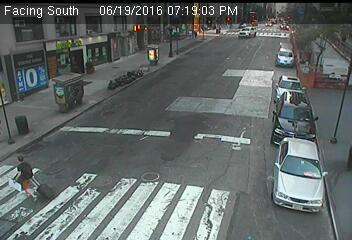neg: (228, 95, 255, 132), (80, 58, 100, 85)
pos: (1, 152, 36, 198)
